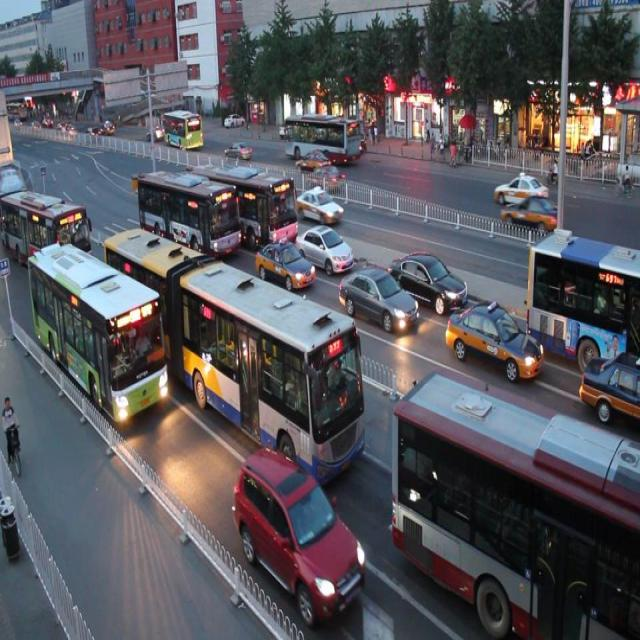car: (234, 448, 364, 622), (446, 294, 544, 382), (337, 258, 416, 331), (390, 243, 468, 309), (577, 346, 640, 417), (253, 230, 314, 289), (294, 214, 352, 273), (67, 255, 114, 308), (296, 183, 342, 227)
van: (102, 218, 366, 482), (391, 371, 640, 640), (28, 242, 166, 424), (526, 233, 640, 368), (136, 160, 240, 262), (191, 153, 298, 248), (1, 182, 90, 272)
